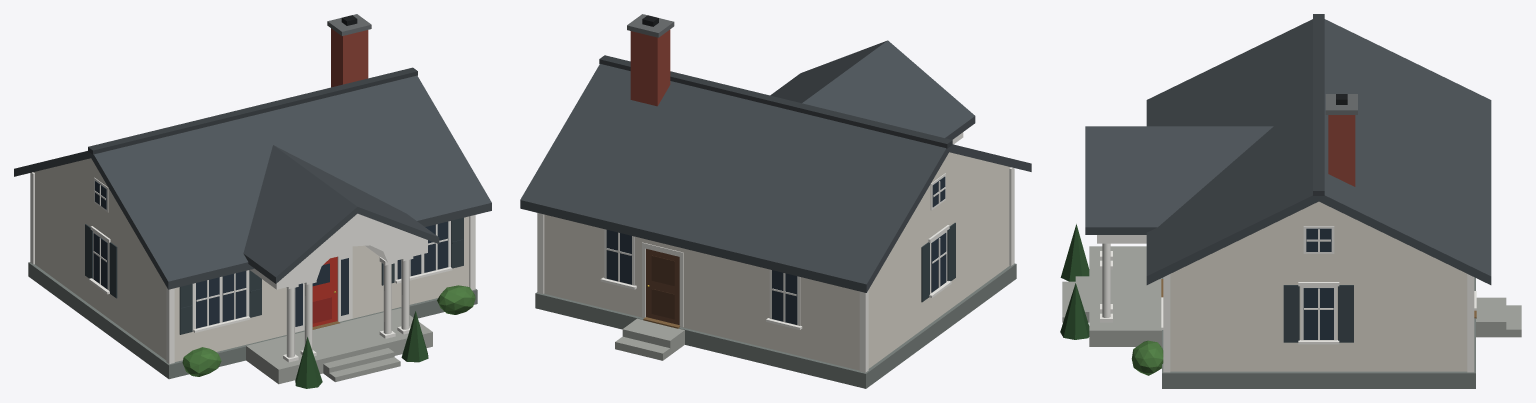
File: ClassicHouse.obj
3 views of the same model, side by side, from view 1: azimuth 30°, elevation 25°; view 2: azimuth 150°, elevation 25°; view 3: azimuth 270°, elevation 25° (orthographic). The views are drawn at different scales.
Parts seen in each view (by area): view 1: Roof, PorchRoof, Stoop, WallLeft1, WallLeft4, Pediment, Foundation, RidgeCap, GableL, WallFront9, Chimney, WallFront7 (+34 smaller); view 2: Roof, PorchRoof, Foundation, WallBack4, WallLeft4, WallLeft1, WallBack9, WallBack1, GableL, RidgeCap, Chimney, BackStep (+16 smaller); view 3: Roof, PorchRoof, WallRight4, WallRight1, GableR, Stoop, Foundation, RidgeCap, Chimney, SideGlassR, BackStep, ConiferR (+15 smaller).
Boxes of the visible parts, x1,y1,x2,y2 form: Roof: (14, 75, 491, 289); PorchRoof: (243, 145, 439, 283); Stoop: (246, 308, 432, 384); WallLeft1: (35, 173, 94, 307); WallLeft4: (108, 226, 166, 359); Pediment: (250, 213, 427, 289); Foundation: (28, 262, 477, 379); RidgeCap: (88, 67, 417, 154); GableL: (34, 158, 147, 254); WallFront9: (339, 245, 397, 321); Chimney: (331, 28, 368, 87); WallFront7: (245, 279, 304, 344); Roof: (520, 64, 1031, 292); PorchRoof: (770, 40, 975, 139); Foundation: (535, 263, 1016, 388); WallBack4: (680, 247, 772, 349); WallLeft4: (945, 168, 1008, 312); WallLeft1: (868, 225, 930, 368); WallBack9: (544, 214, 607, 308); WallBack1: (797, 277, 859, 370); GableL: (888, 152, 1009, 256); RidgeCap: (599, 55, 952, 148); Chimney: (630, 29, 670, 106); BackStep: (622, 318, 684, 354); Roof: (1146, 19, 1491, 284); PorchRoof: (1085, 126, 1273, 234); WallRight4: (1171, 269, 1303, 371); WallRight1: (1334, 269, 1466, 371); GableR: (1180, 201, 1457, 269); Stoop: (1089, 246, 1161, 346); Foundation: (1162, 277, 1475, 388); RidgeCap: (1313, 14, 1324, 195); Chimney: (1328, 115, 1355, 186); SideGlassR: (1303, 288, 1333, 339); BackStep: (1476, 297, 1506, 337); ConiferR: (1060, 283, 1089, 339).
Bounding box in the file's own units: 10.95 × 7.69 × 12.06.
